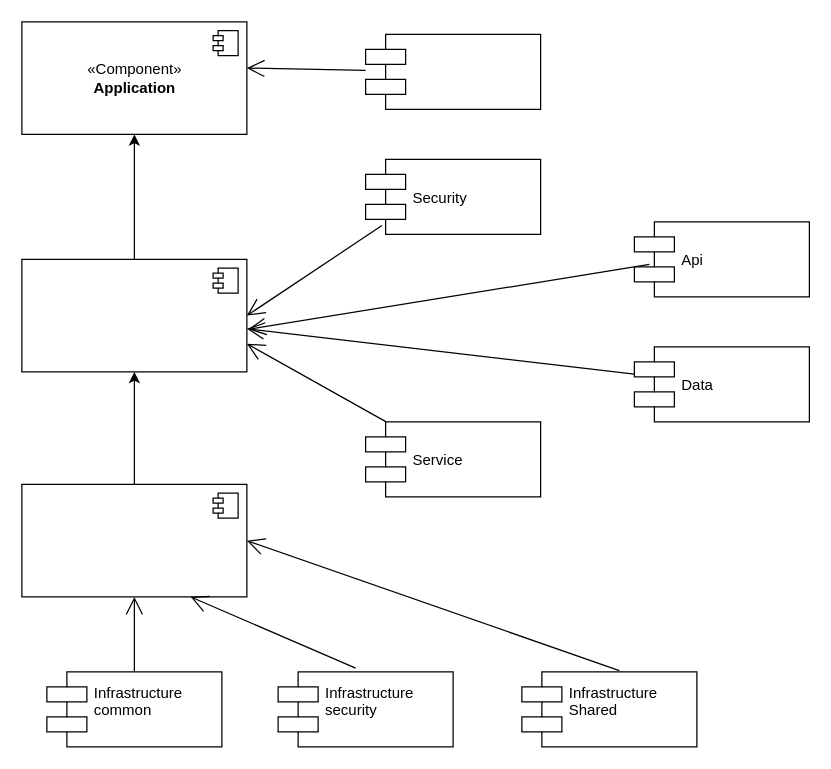
Some shapes in this 831 by 769 pixel diagram are drawn without their labels. The centre of each missing label's shape, as x and y in pixels:
"Environment configuration" goes at (x=452, y=71).
"«Component» Core" goes at (x=134, y=315).
"«Component» Infrastructure" goes at (x=134, y=540).
